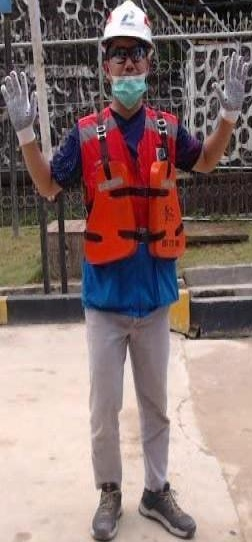boots: (137, 481, 195, 539), (91, 483, 123, 541)
gloves: (0, 69, 38, 146), (213, 50, 251, 121)
hard-hat: (100, 0, 154, 54)
vest: (73, 101, 190, 267)
